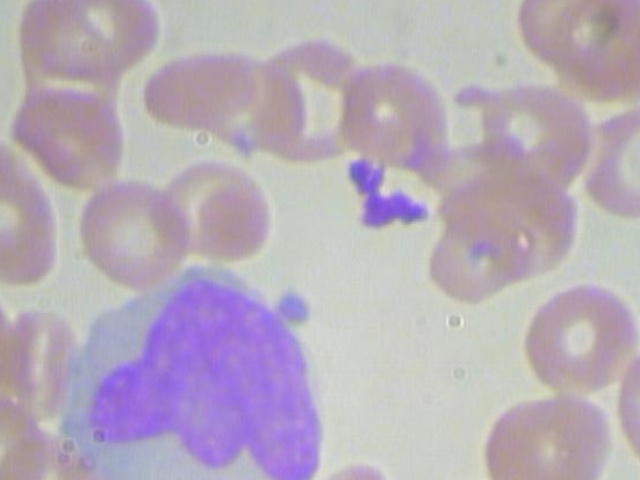Platelets: (353, 187, 395, 236), (271, 281, 320, 323), (389, 186, 433, 229), (338, 156, 387, 194)
RBC: (326, 54, 463, 169), (522, 284, 639, 401), (478, 382, 615, 480), (73, 176, 190, 283), (159, 154, 276, 261), (579, 101, 640, 217), (618, 331, 640, 479)
WBC: (50, 259, 336, 480)
